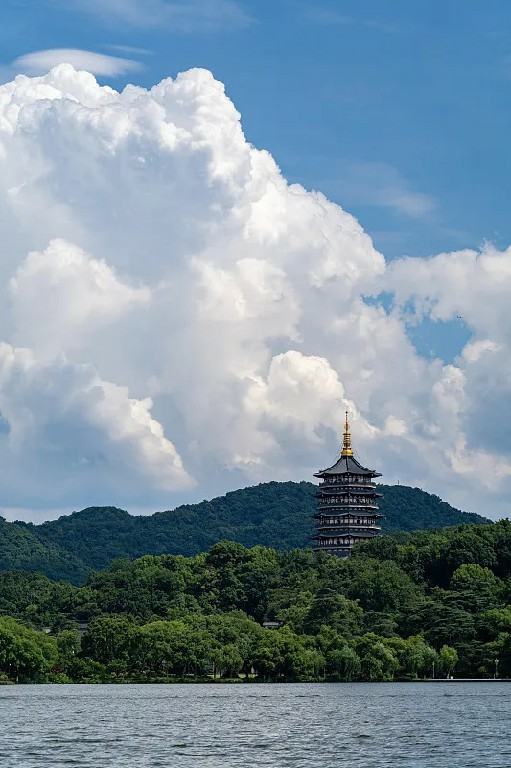Leifeng: (309, 408, 381, 557)
